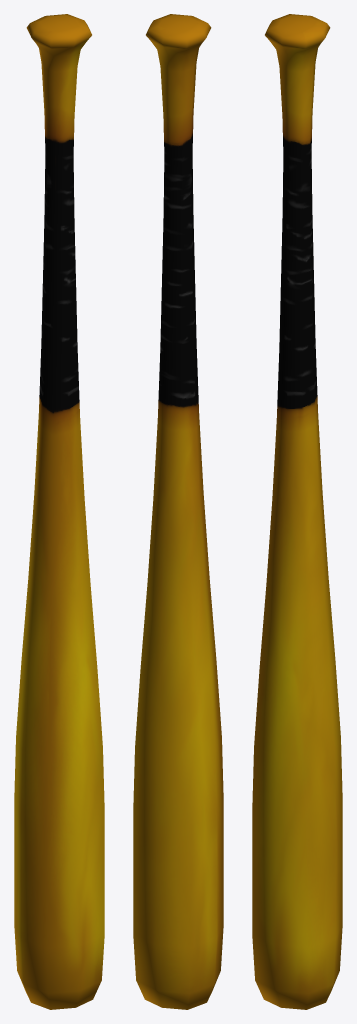
File: bat.obj
3 views of the same model, side by side, from view 1: azimuth 30°, elevation 25°; view 2: azimuth 150°, elevation 25°; view 3: azimuth 330°, elevation 25° (orthographic).
Parts seen in each view (by area): view 1: Cube; view 2: Cube; view 3: Cube.
Part boxes in pixels (x1,y1,x2,y2): Cube: [14, 14, 104, 1009]; Cube: [133, 14, 223, 1009]; Cube: [252, 14, 342, 1009].
Size of the model in its own units: 0.079 by 0.9668 by 0.079.
1 material, 1 textured.
